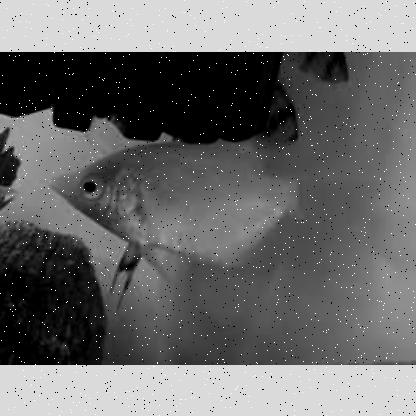gurame: (50, 142, 302, 270)
